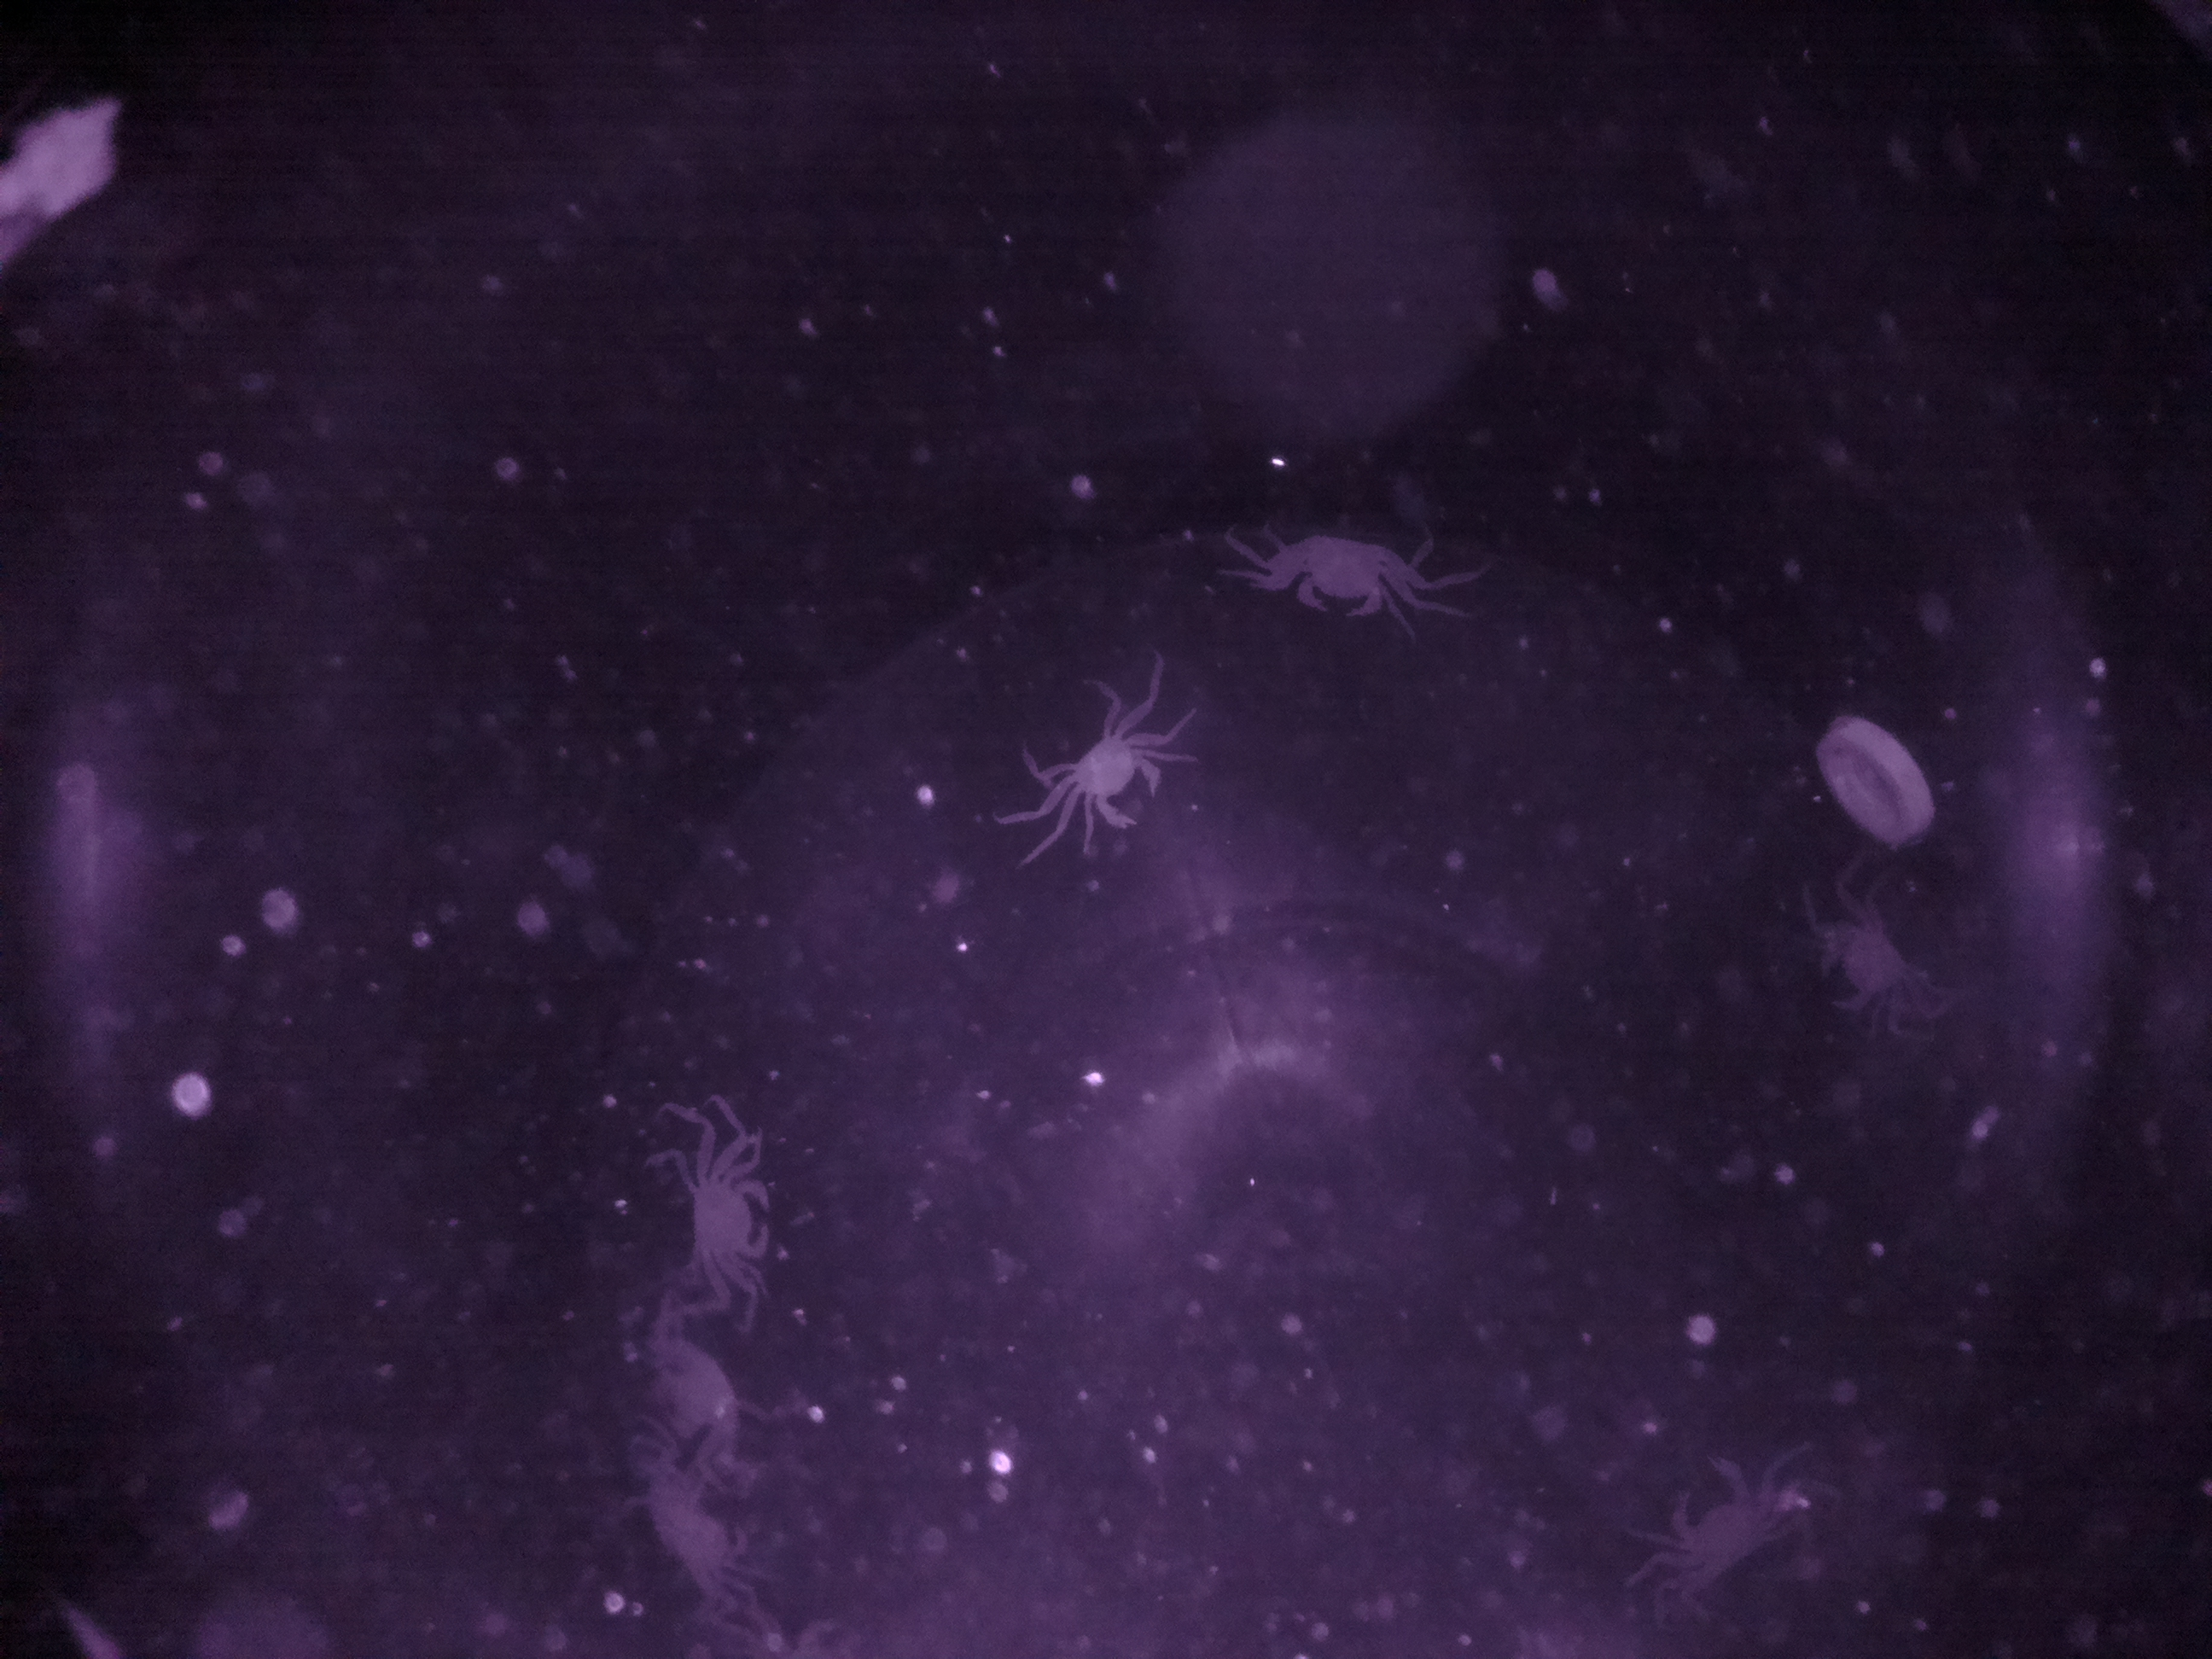Crab: (1642, 1434, 1784, 1610), (651, 1159, 794, 1281), (1050, 714, 1174, 843), (1264, 525, 1407, 631), (1803, 906, 1923, 1026)
